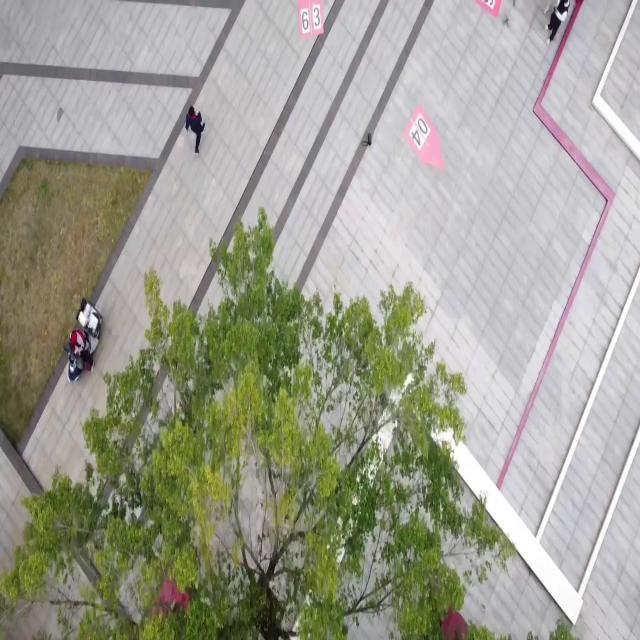-sign-: (403, 105, 445, 171)
